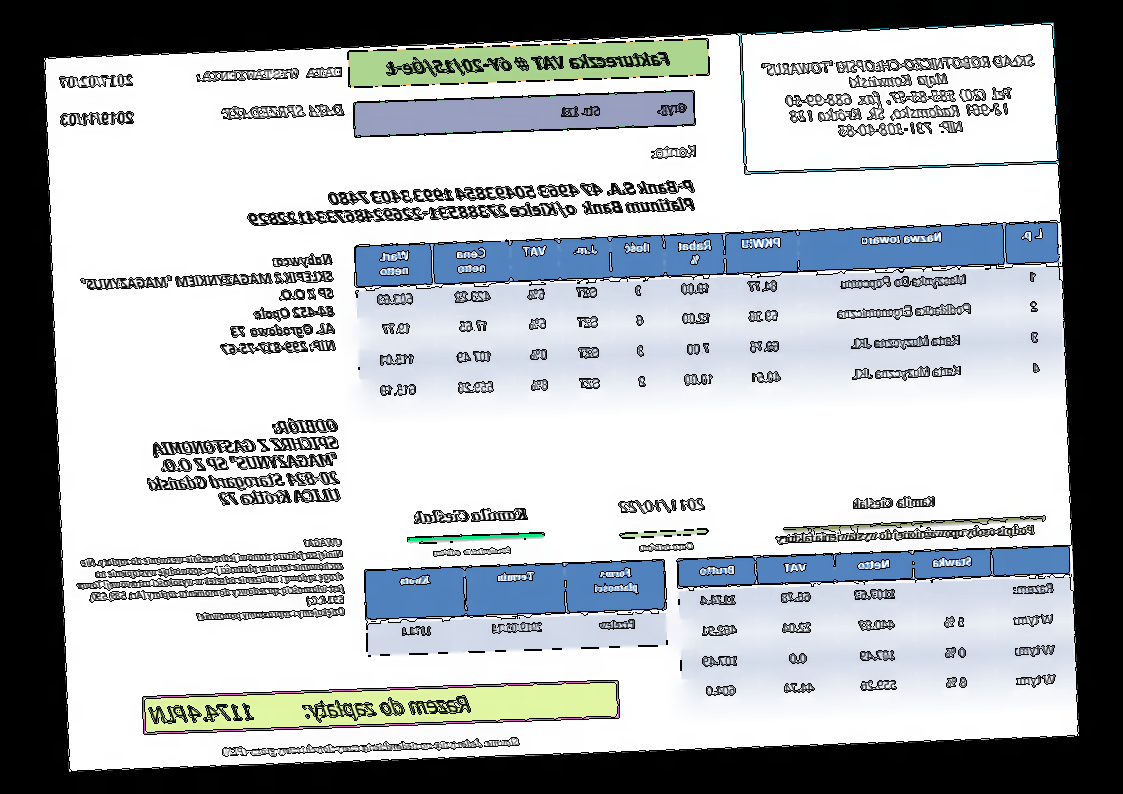Table: (354, 219, 1065, 410), (675, 544, 1076, 710), (363, 557, 669, 658)
TextBox: (78, 250, 338, 363), (72, 536, 347, 628), (758, 51, 1039, 141), (247, 176, 698, 229), (141, 416, 341, 511), (147, 689, 473, 728), (383, 47, 673, 81), (220, 733, 521, 760), (774, 521, 1038, 548), (194, 63, 346, 86), (560, 99, 689, 122), (219, 100, 346, 122), (410, 504, 529, 527), (617, 495, 707, 516), (57, 70, 135, 92), (58, 107, 136, 129), (851, 494, 938, 512), (432, 544, 513, 558), (649, 143, 700, 162), (639, 540, 696, 555)
